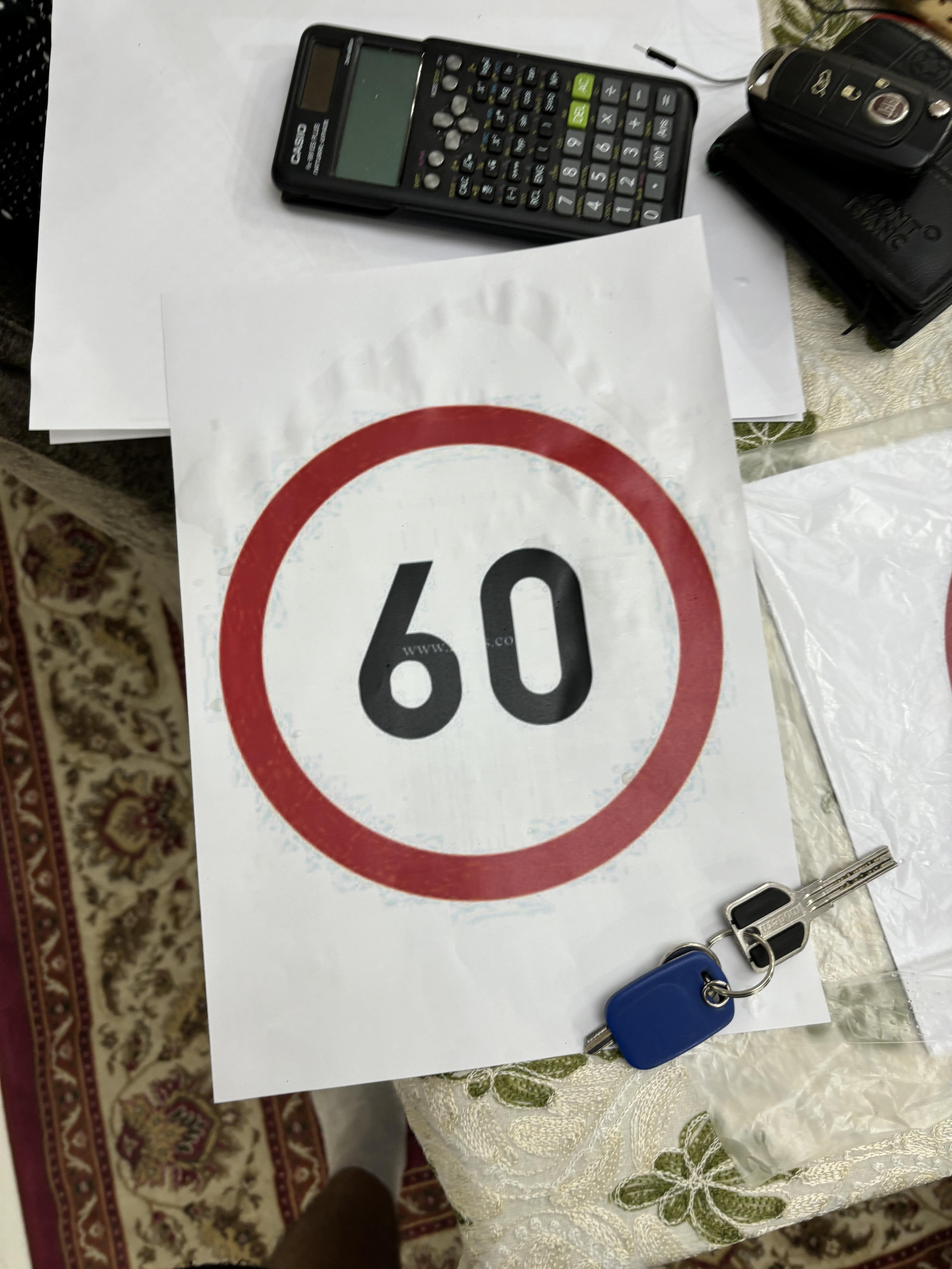60-Speed: (216, 403, 733, 901)
